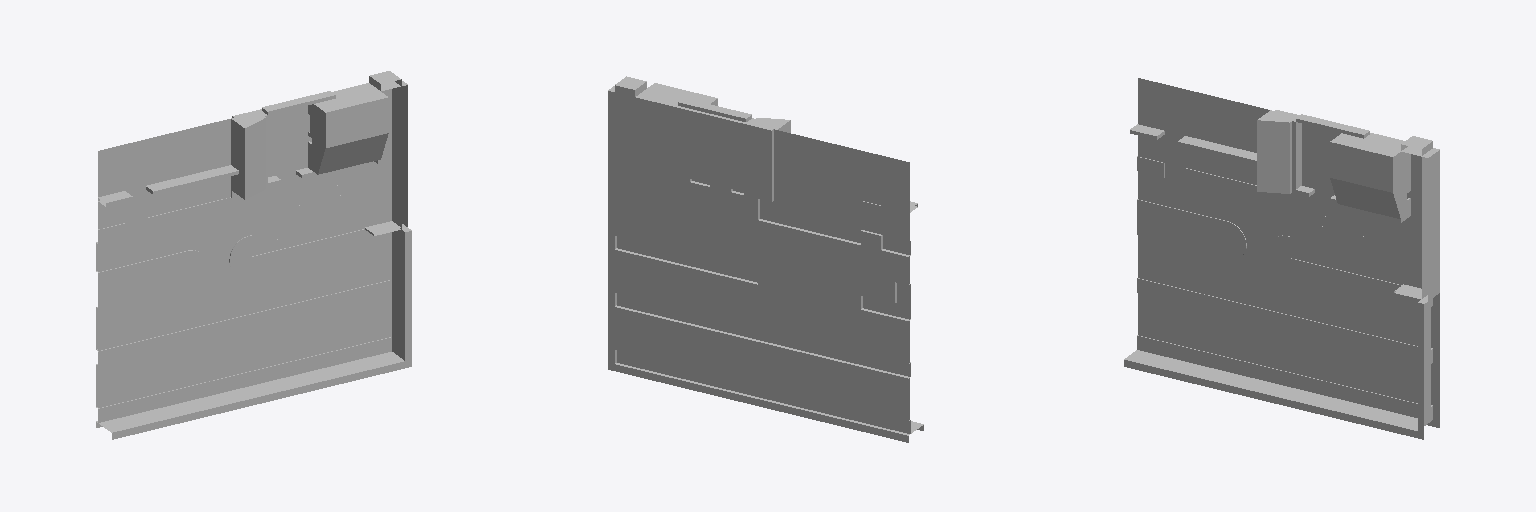
The model's file is maptest1.obj.
The picture shows the model from 3 angles: view 1: azimuth 30°, elevation 25°; view 2: azimuth 150°, elevation 25°; view 3: azimuth 330°, elevation 25°; orthographic projection.
Visible parts, largest first — view 1: VBSP_Object.model_0; view 2: VBSP_Object.model_0; view 3: VBSP_Object.model_0.
Part boxes in pixels (x1,y1,x2,y2): VBSP_Object.model_0: (96,71,411,439); VBSP_Object.model_0: (608,76,923,442); VBSP_Object.model_0: (1124,78,1439,439).
Size of the model in its own units: 5632 by 5120 by 640.